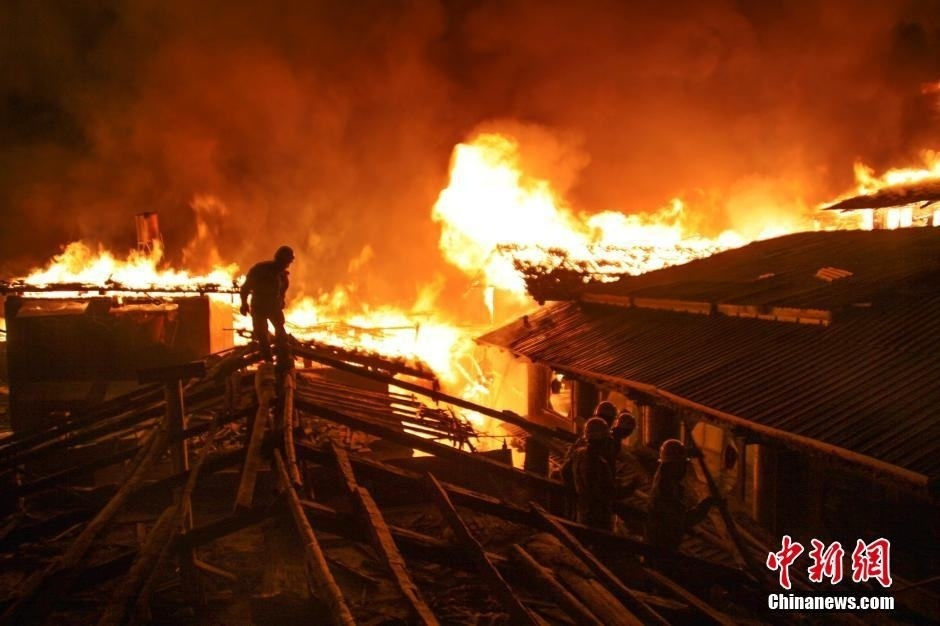fire: (39, 110, 848, 459), (409, 128, 932, 315)
